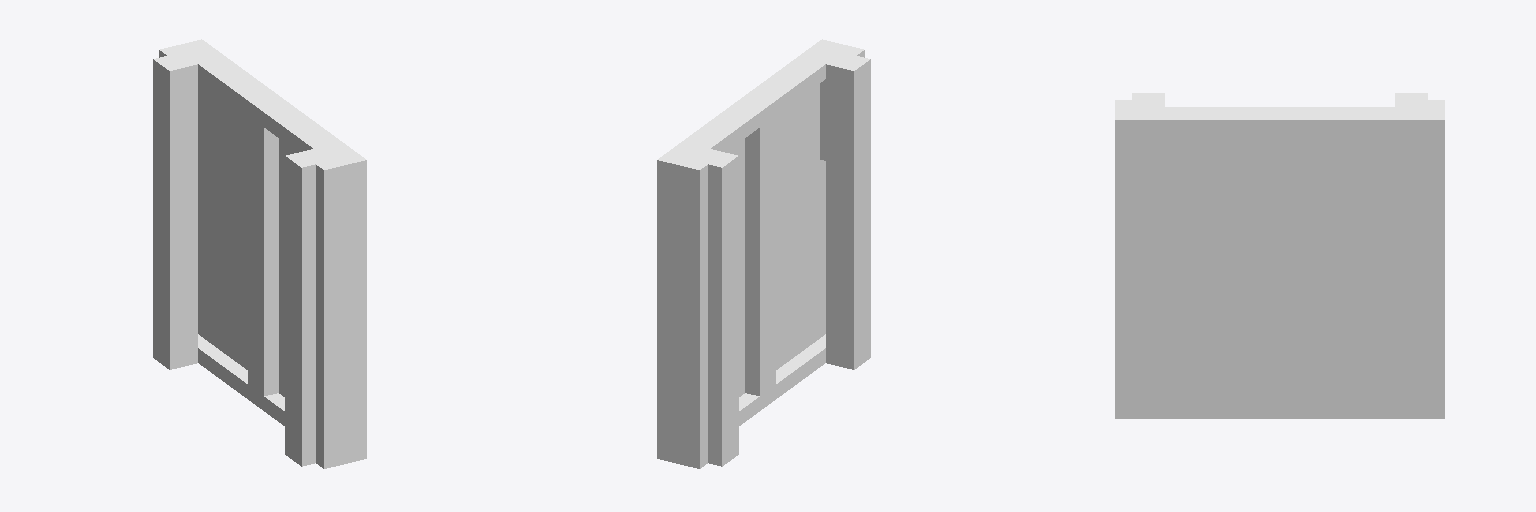
Rendered from Kitchen Window.obj.
3 views of the same model, side by side, from view 1: azimuth 30°, elevation 25°; view 2: azimuth 150°, elevation 25°; view 3: azimuth 270°, elevation 25° (orthographic).
Visible parts, largest first — view 1: object 1; view 2: object 1; view 3: object 1.
Boxes of the visible parts, x1,y1,x2,y2 form: object 1: [153, 39, 366, 468]; object 1: [657, 39, 870, 468]; object 1: [1115, 93, 1444, 418].
Size of the model in its own units: 0.4 by 2 by 2.